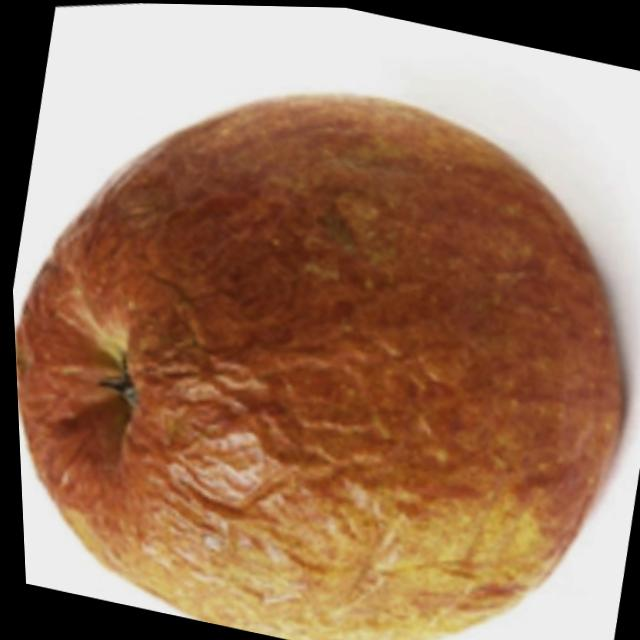organik: (1, 19, 640, 640)
